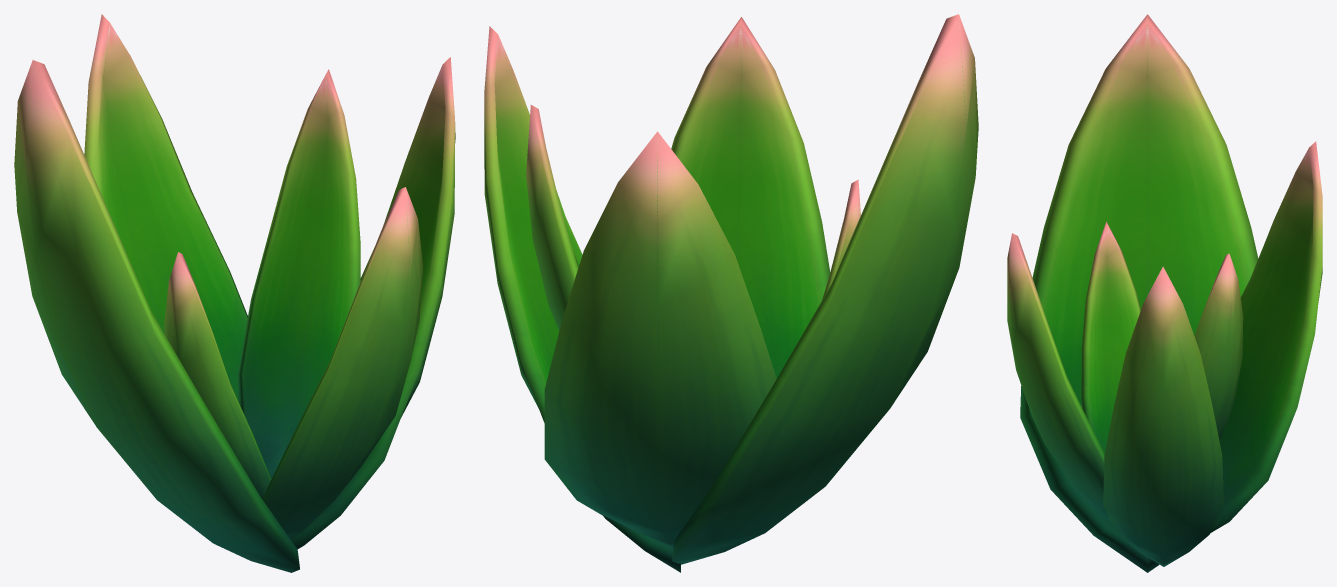
The model's file is yezi.FBX.
The picture shows the model from 3 angles, left to right: view 1: azimuth 30°, elevation 25°; view 2: azimuth 150°, elevation 25°; view 3: azimuth 270°, elevation 25°; orthographic projection. The views are drawn at different scales.
Parts seen in each view (by area): view 1: yezi; view 2: yezi; view 3: yezi.
Boxes of the visible parts, x1,y1,x2,y2 form: yezi: [14, 14, 455, 572]; yezi: [484, 14, 978, 572]; yezi: [1007, 14, 1322, 572].
Bounding box in the file's own units: 126 × 158 × 98.22.
